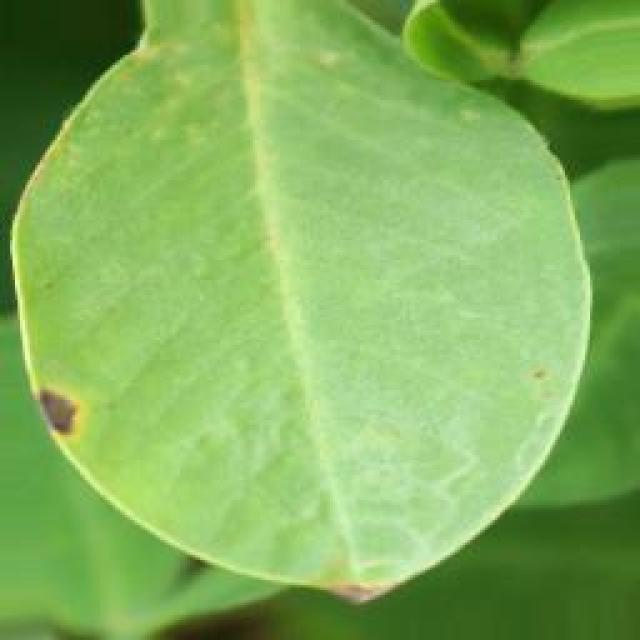Sigatoka: (513, 347, 595, 439), (300, 541, 396, 616), (24, 384, 103, 456)
